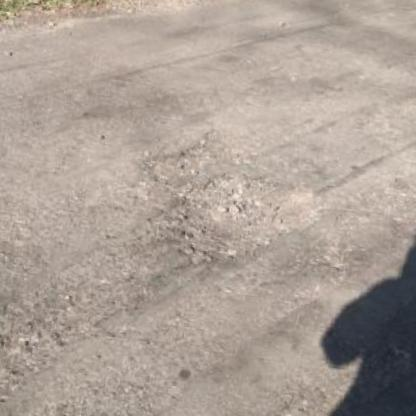pothole: (165, 164, 328, 282), (139, 116, 254, 193)
